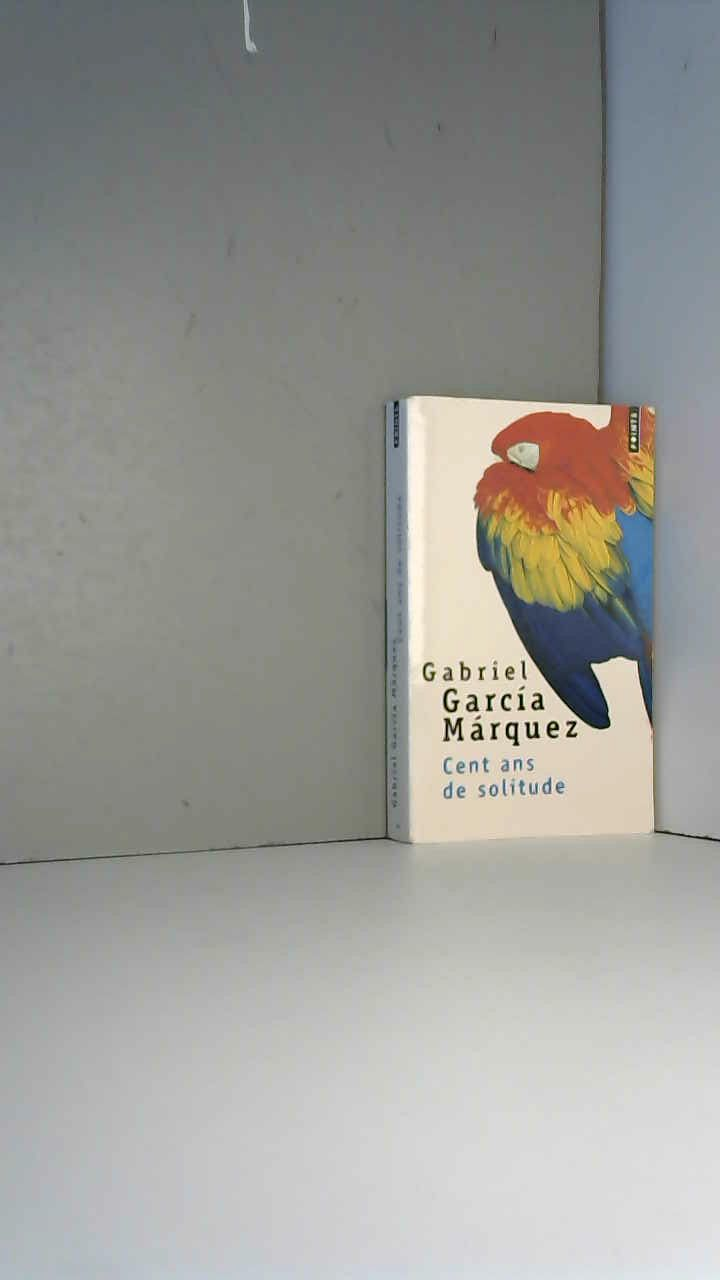book: (367, 379, 676, 860)
